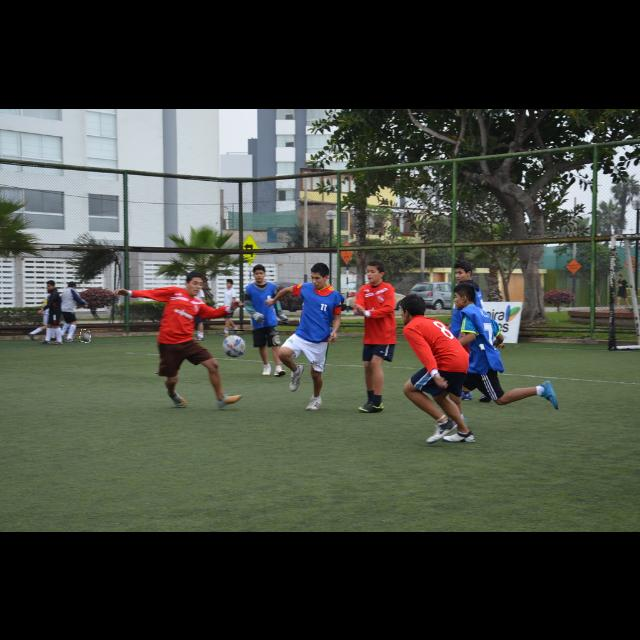Football: (222, 330, 244, 356), (79, 330, 91, 342)
